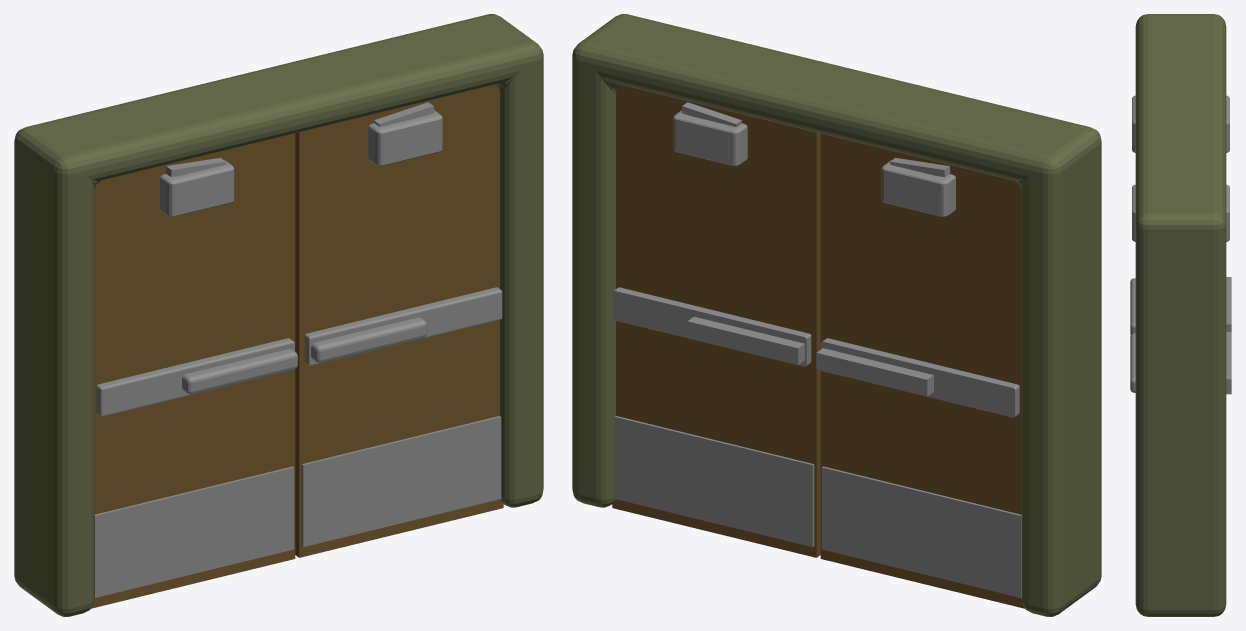
Rendered from DoubleDoor.fbx.
The picture shows the model from 3 angles, left to right: view 1: azimuth 30°, elevation 25°; view 2: azimuth 150°, elevation 25°; view 3: azimuth 270°, elevation 25°; orthographic projection. The views are drawn at different scales.
Parts seen in each view (by area): view 1: Rim, Door.001, Door, Extras, Extras.001; view 2: Rim, Door.001, Door, Extras, Extras.001; view 3: Rim, Extras.001, Extras.
Part boxes in pixels (box(x1,y1,x2,y2)): Rim: box(14, 14, 543, 616); Door.001: box(295, 85, 503, 557); Door: box(91, 133, 295, 608); Extras: box(94, 157, 297, 597); Extras.001: box(301, 102, 502, 547); Rim: box(572, 14, 1101, 616); Door.001: box(612, 85, 820, 557); Door: box(820, 133, 1024, 608); Extras: box(816, 157, 1021, 597); Extras.001: box(612, 102, 814, 547); Rim: box(1135, 14, 1226, 616); Extras.001: box(1130, 184, 1231, 394); Extras: box(1130, 95, 1231, 334).
Bounding box in the file's own units: 478 × 431 × 98.28.
